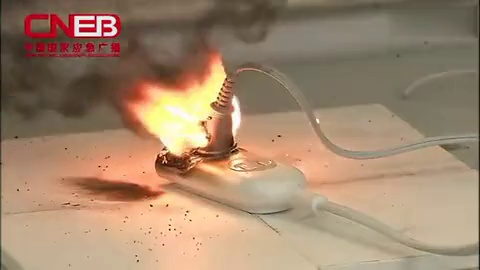fire: (115, 49, 242, 161)
